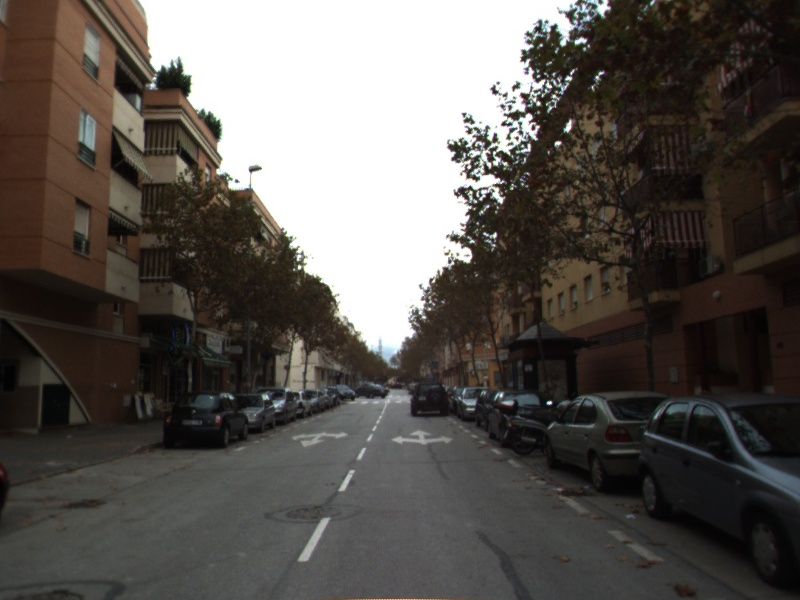STRAIGHT_LEFT_RIGHT: (390, 428, 456, 447)
